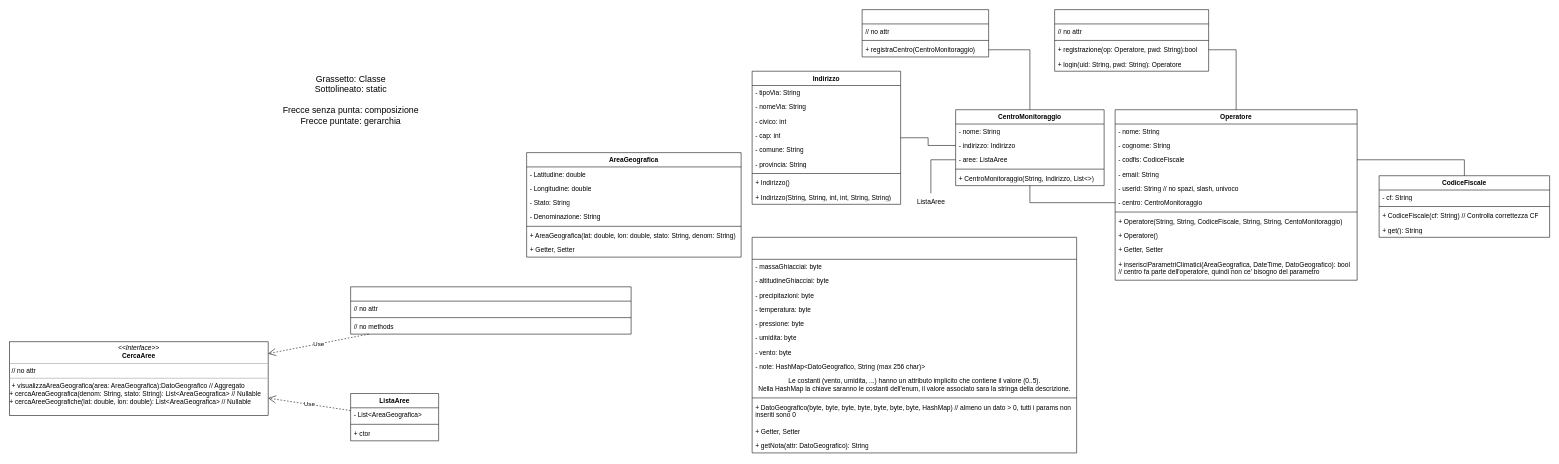
Image size: 1559x464. Some labels were removed from this diagram. The shapes that lost their labels are listed below. From the top down, each one's box as (x1, y1, x2, y2) in pixels, then its label:
(862, 9, 989, 57): GestoreCentro
(1054, 9, 1209, 71): GestoreOperatore
(350, 286, 631, 334): ElaboratoreAreeGeografiche
(752, 237, 1077, 453): <<Enum>> DatoGeografico
